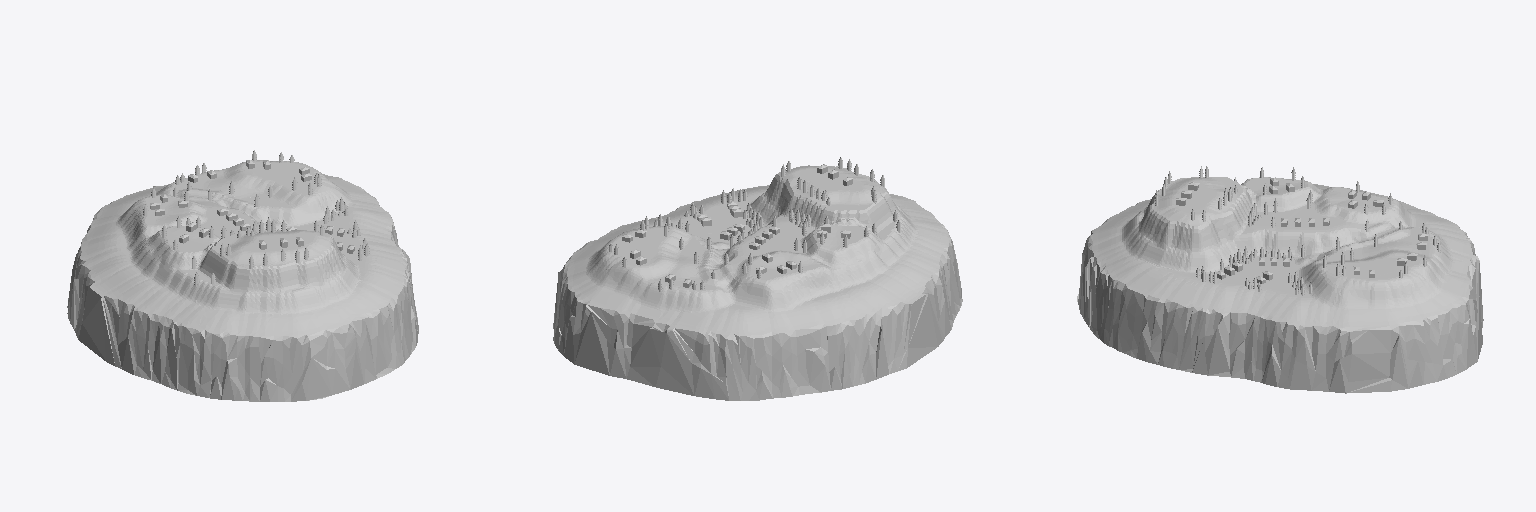
The model's file is Islandv1.1.obj.
3 renders of one model, left to right at view 1: azimuth 30°, elevation 25°; view 2: azimuth 150°, elevation 25°; view 3: azimuth 270°, elevation 25°, orthographic.
Parts seen in each view (by area): view 1: Cube, Cone; view 2: Cube, Cone; view 3: Cube, Cone.
Boxes of the visible parts, box(x1,y1,x2,y2) form: Cube: box(67, 160, 418, 401); Cone: box(143, 150, 369, 285); Cube: box(553, 165, 962, 400); Cone: box(609, 157, 900, 291); Cube: box(1077, 177, 1483, 393); Cone: box(1155, 166, 1440, 295).
Size of the model in its own units: 12.16 by 4.33 by 13.42.